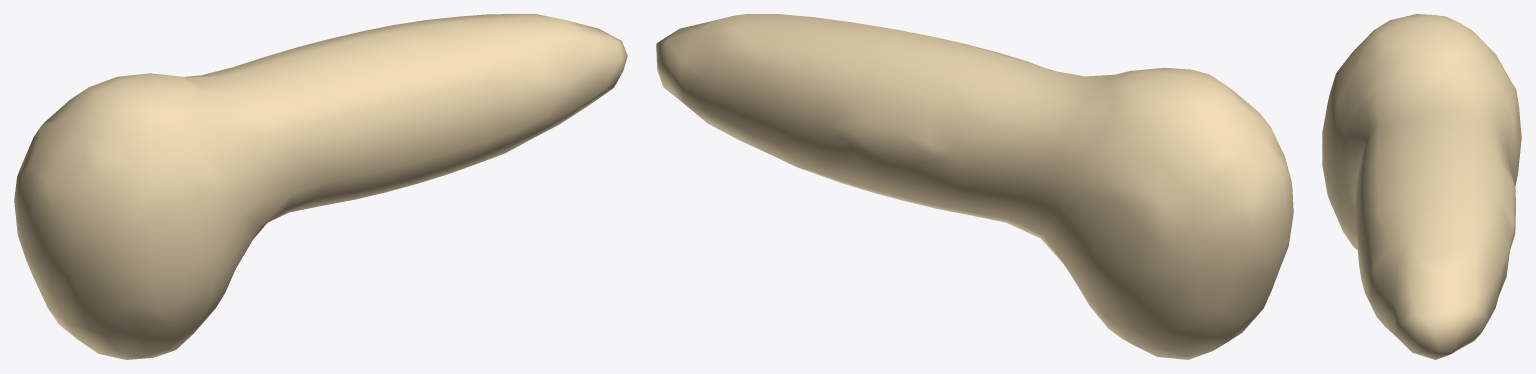
File: organ-pancreas.glb
3 views of the same model, side by side, from view 1: azimuth 30°, elevation 25°; view 2: azimuth 150°, elevation 25°; view 3: azimuth 270°, elevation 25° (orthographic). The views are drawn at different scales.
Parts seen in each view (by area): view 1: world; view 2: world; view 3: world.
Part boxes in pixels (x1,y1,x2,y2): world: [14, 14, 627, 359]; world: [656, 14, 1293, 359]; world: [1322, 14, 1521, 359].
Size of the model in its own units: 0.2239 by 0.0941 by 0.068.
